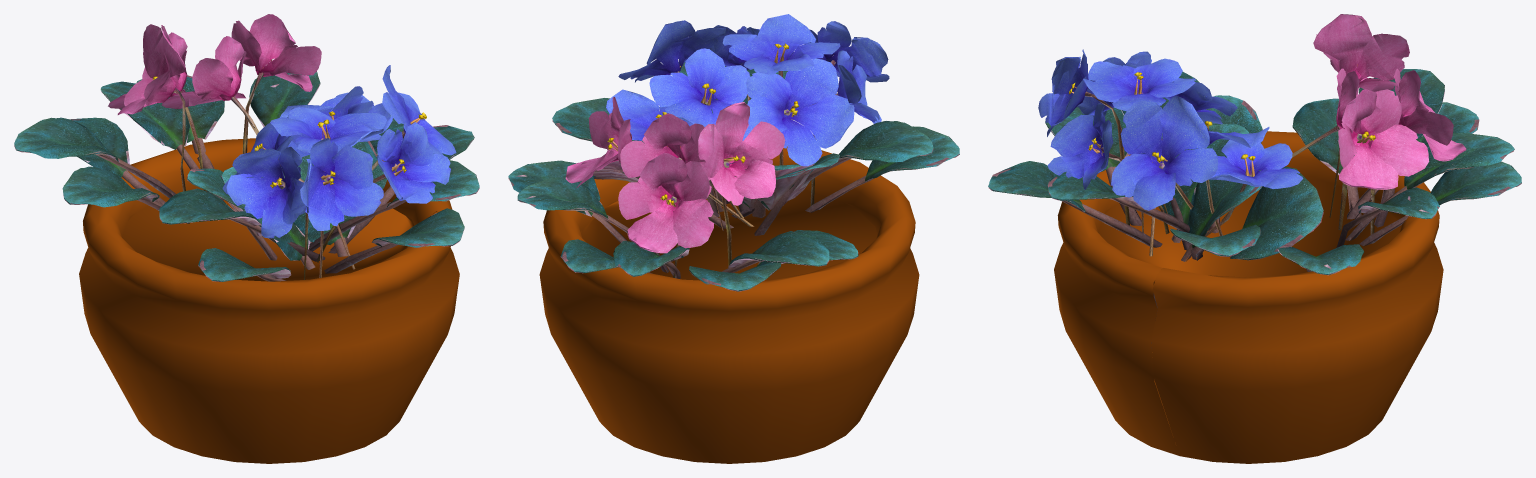
File: flower3.fbx
3 views of the same model, side by side, from view 1: azimuth 30°, elevation 25°; view 2: azimuth 150°, elevation 25°; view 3: azimuth 270°, elevation 25° (orthographic). The views are drawn at different scales.
Parts seen in each view (by area): view 1: flower.001_flowers_mat_0; view 2: flower.001_flowers_mat_0; view 3: flower.001_flowers_mat_0.
Part boxes in pixels (x1=…): flower.001_flowers_mat_0: x1=14, y1=14, x2=479, y2=463; flower.001_flowers_mat_0: x1=508, y1=14, x2=959, y2=463; flower.001_flowers_mat_0: x1=988, y1=14, x2=1521, y2=463.
Size of the model in its own units: 12975 by 12104 by 16123.
